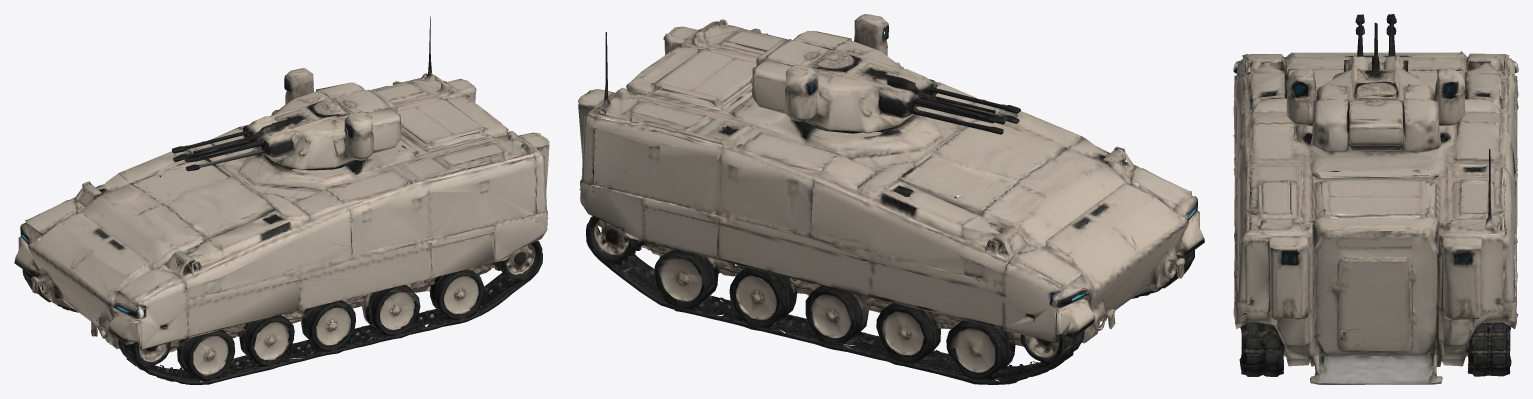
The model's file is sabre-ifv.glb.
3 renders of one model, left to right at view 1: azimuth 30°, elevation 25°; view 2: azimuth 150°, elevation 25°; view 3: azimuth 270°, elevation 25°, orthographic. The views are drawn at different scales.
Visible parts, largest first — view 1: Hull, Turret; view 2: Hull, Turret; view 3: Hull, Turret.
Part boxes in pixels (x1,y1,x2,y2): Hull: (14, 16, 549, 384); Turret: (174, 68, 378, 216); Hull: (578, 19, 1204, 384); Turret: (779, 14, 1036, 189); Hull: (1233, 14, 1518, 384); Turret: (1258, 14, 1473, 154).
Bounding box in the file's own units: 2 × 0.9293 × 0.9287.
1 material, 1 textured.
